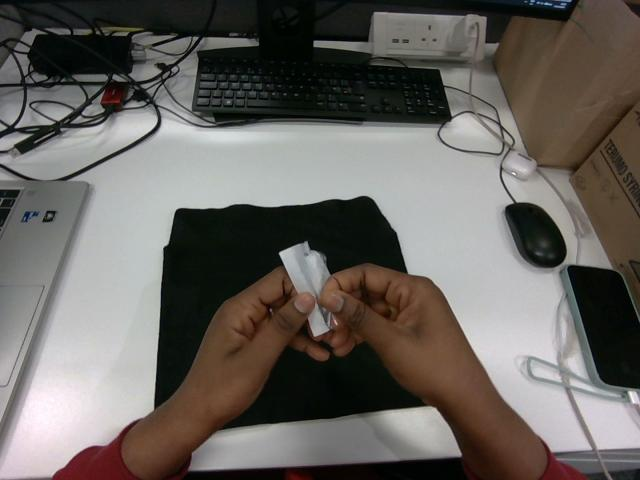gauze: (279, 241, 329, 298)
